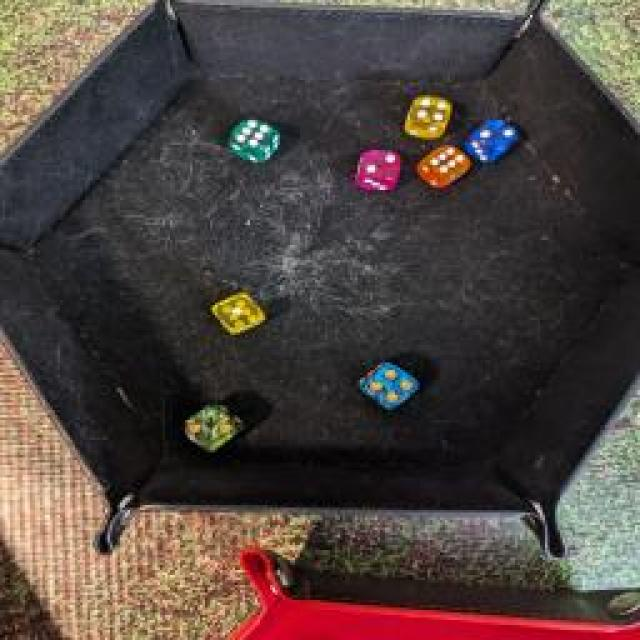dice_1: (210, 290, 265, 338)
dice_2: (462, 116, 528, 164), (180, 402, 242, 450), (355, 146, 405, 192)
dice_4: (351, 360, 419, 408), (399, 91, 456, 134)
dice_6: (223, 115, 285, 165), (415, 142, 470, 190)
